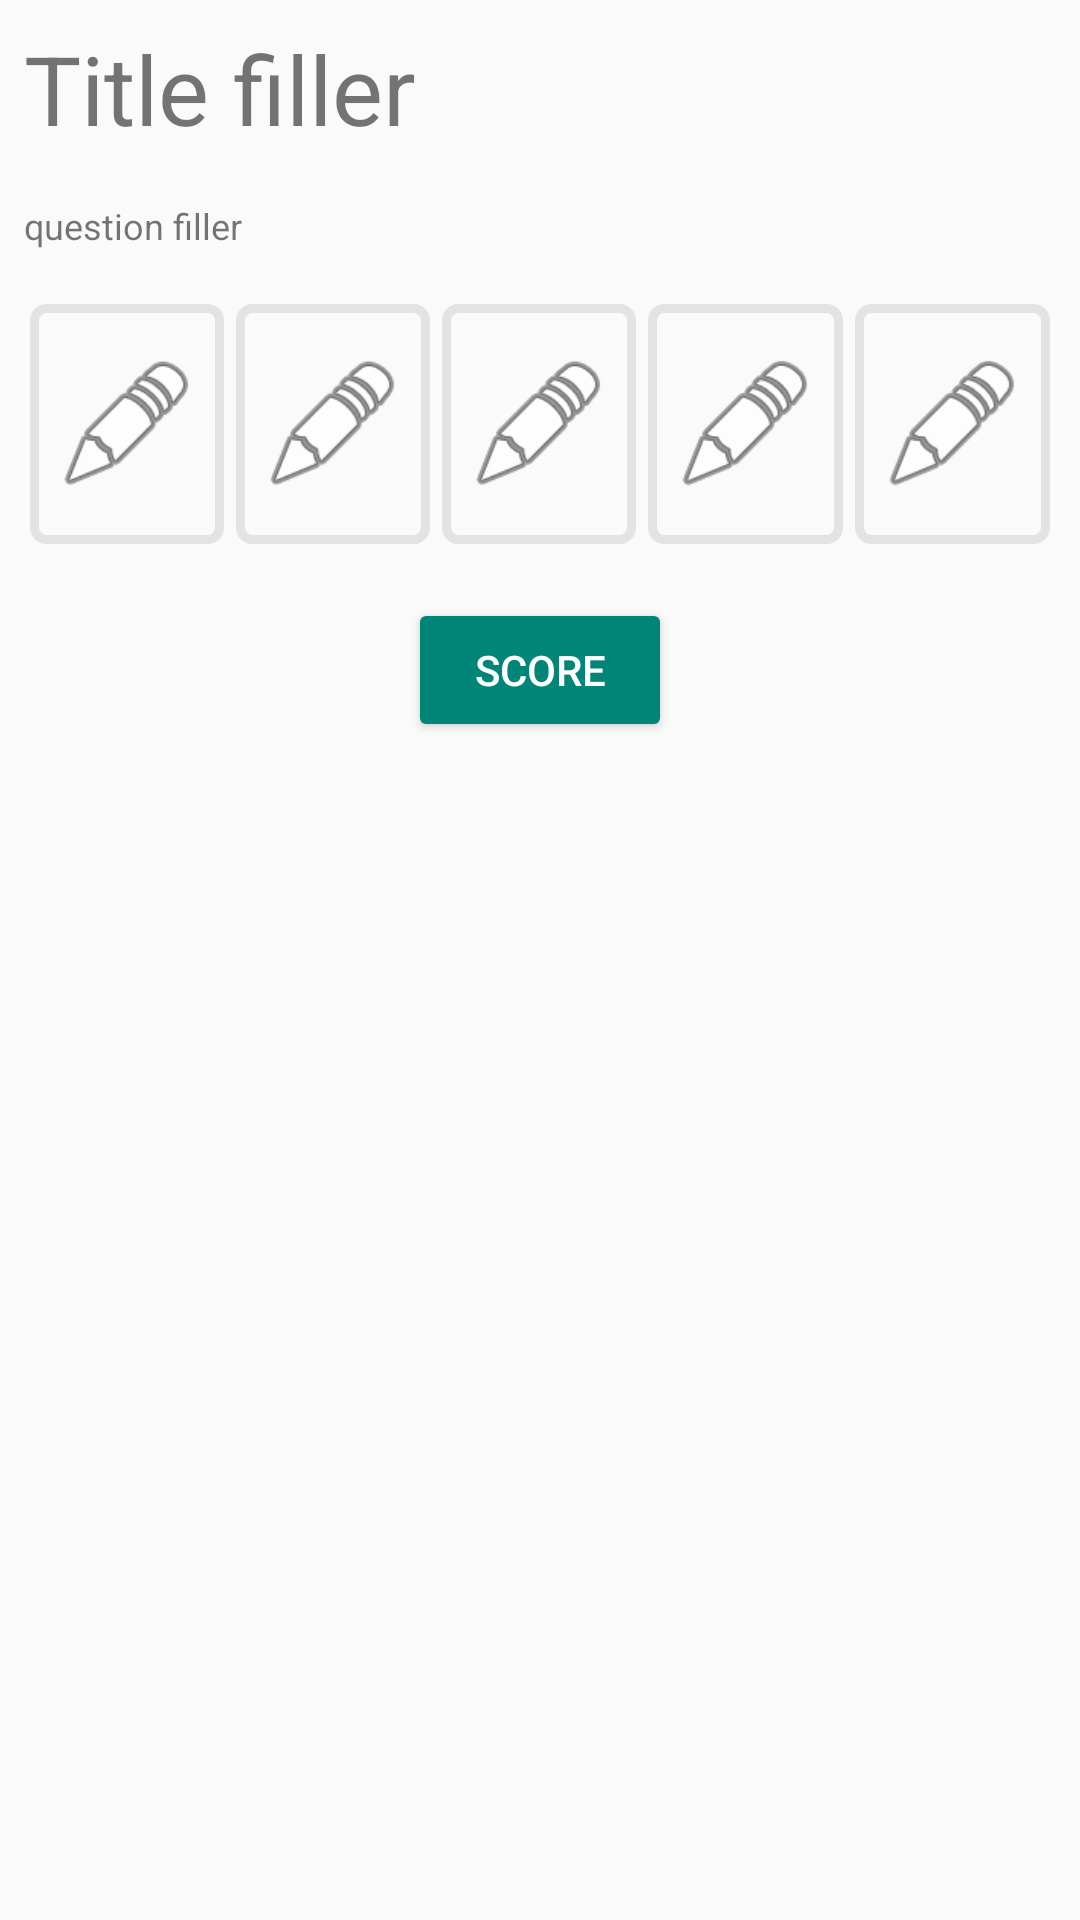

Named icons in this screenshot (1080 × 1920) and their centers, [x,y]:
edit: [126,423], [332,423], [538,423], [745,423], [952,423]
